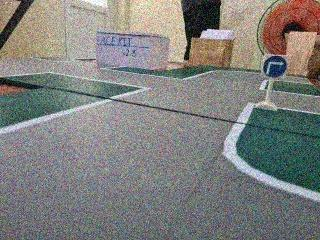right: (255, 48, 289, 81)
